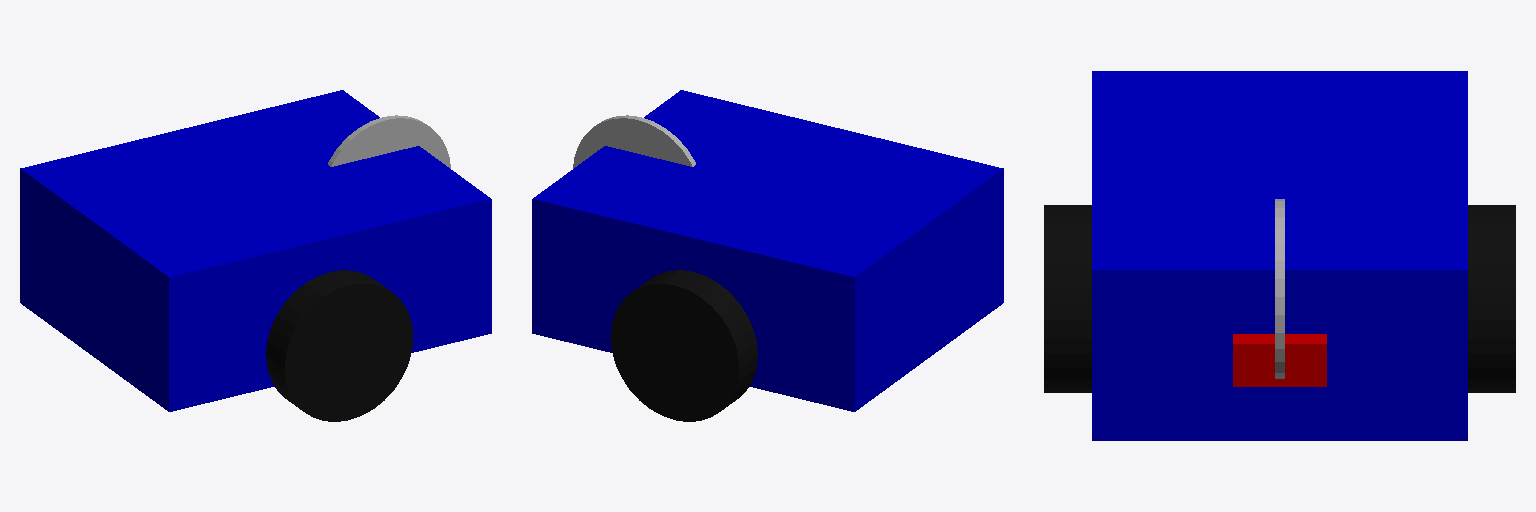
robot.urdf — battlebot_1:
<?xml version="1.0"?>
<robot name="battlebot_1">

  <!-- Material definitions -->
  <material name="blue">
    <color rgba="0 0 0.8 1"/>
  </material>
  <material name="red">
    <color rgba="0.8 0 0 1"/>
  </material>
  <material name="black">
    <color rgba="0.1 0.1 0.1 1"/>
  </material>
  <material name="grey">
    <color rgba="0.7 0.7 0.7 1"/>
  </material>

  <!-- Base link -->
  <link name="base_link">
    <inertial>
      <origin xyz="0 0 0.2" rpy="0 0 0"/>
      <mass value="15.0"/>
      <inertia ixx="1.0" ixy="0" ixz="0" iyy="1.0" iyz="0" izz="1.0"/>
    </inertial>
    <visual>
      <origin xyz="0 0 0.2" rpy="0 0 0"/>
      <geometry><box size="1.0 0.8 0.4"/></geometry>
      <material name="blue"/>
    </visual>
    <collision name="base_link_collision">
      <origin xyz="0 0 0.2" rpy="0 0 0"/>
      <geometry><box size="1.0 0.8 0.4"/></geometry>
    </collision>
  </link>

  <!-- Left wheel -->
  <link name="left_wheel">
    <inertial>
      <origin xyz="0 0 0" rpy="0 0 0"/>
      <mass value="1.5"/>
      <inertia ixx="0.1" ixy="0" ixz="0" iyy="0.1" iyz="0" izz="0.1"/>
    </inertial>
    <visual>
      <origin xyz="0 0 0" rpy="1.5708 0 0"/>
      <geometry><cylinder radius="0.2" length="0.1"/></geometry>
      <material name="black"/>
    </visual>
    <collision name="left_wheel_collision">
      <origin xyz="0 0 0" rpy="1.5708 0 0"/>
      <geometry><cylinder radius="0.2" length="0.1"/></geometry>
    </collision>
  </link>

  <!-- Right wheel -->
  <link name="right_wheel">
    <inertial>
      <origin xyz="0 0 0" rpy="0 0 0"/>
      <mass value="1.5"/>
      <inertia ixx="0.1" ixy="0" ixz="0" iyy="0.1" iyz="0" izz="0.1"/>
    </inertial>
    <visual>
      <origin xyz="0 0 0" rpy="1.5708 0 0"/>
      <geometry><cylinder radius="0.2" length="0.1"/></geometry>
      <material name="black"/>
    </visual>
    <collision name="right_wheel_collision">
      <origin xyz="0 0 0" rpy="1.5708 0 0"/>
      <geometry><cylinder radius="0.2" length="0.1"/></geometry>
    </collision>
  </link>

  <!-- Saw link -->
  <link name="saw_link">
    <inertial>
      <origin xyz="0 0 0" rpy="0 0 0"/>
      <mass value="0.6"/>
      <inertia ixx="0.01" ixy="0" ixz="0" iyy="0.01" iyz="0" izz="0.01"/>
    </inertial>
    <visual>
      <origin xyz="0 0 0" rpy="1.5708 0 0"/>
      <geometry><cylinder radius="0.2" length="0.02"/></geometry>
      <material name="grey"/>
    </visual>
    <collision name="battlebot_saw_collision">
      <origin xyz="0 0 0" rpy="1.5708 0 0"/>
      <geometry><cylinder radius="0.2" length="0.02"/></geometry>
    </collision>
  </link>

  <!-- Contact sensor link -->
  <link name="contact_sensor_link">
    <inertial>
      <origin xyz="0 0 0" rpy="0 0 0"/>
      <mass value="0.03"/>
      <inertia ixx="0.001" ixy="0" ixz="0" iyy="0.001" iyz="0" izz="0.001"/>
    </inertial>
    <visual>
      <geometry><box size="0.1 0.2 0.1"/></geometry>
      <material name="red"/>
    </visual>
    <collision name="battlebot_front_bumper_collision">
      <origin xyz="0 0 0" rpy="0 0 0"/>
      <geometry><box size="0.1 0.2 0.1"/></geometry>
    </collision>
  </link>

  <!-- Joint definitions -->
  <joint name="left_wheel_joint" type="continuous">
    <parent link="base_link"/>
    <child link="left_wheel"/>
    <origin xyz="0 0.45 0.1" rpy="0 0 0"/>
    <axis xyz="0 1 0"/>
  </joint>
  <joint name="right_wheel_joint" type="continuous">
    <parent link="base_link"/>
    <child link="right_wheel"/>
    <origin xyz="0 -0.45 0.1" rpy="0 0 0"/>
    <axis xyz="0 1 0"/>
  </joint>
  <joint name="saw_joint" type="fixed">
    <parent link="base_link"/>
    <child link="saw_link"/>
    <origin xyz="0.4 0 0.3" rpy="0 0 0"/>
  </joint>
  <joint name="contact_sensor_joint" type="fixed">
    <parent link="base_link"/>
    <child link="contact_sensor_link"/>
    <origin xyz="0.5 0 0.2" rpy="0 0 0"/>
  </joint>

  <!-- Gazebo plugins -->
  <gazebo>
    <plugin name="diff_drive" filename="libgazebo_ros_diff_drive.so">
      <ros>
        <namespace>/battlebot_1</namespace>
      </ros>
      <left_joint>left_wheel_joint</left_joint>
      <right_joint>right_wheel_joint</right_joint>
      <wheel_separation>0.9</wheel_separation>
      <wheel_diameter>0.4</wheel_diameter>
      <command_topic>cmd_vel</command_topic>
      <odometry_topic>odom</odometry_topic>
      <odometry_frame>odom</odometry_frame>
      <robot_base_frame>base_link</robot_base_frame>
      <max_linear_speed>1.0</max_linear_speed>
      <max_angular_speed>2.0</max_angular_speed>
      <publish_odom>true</publish_odom>
      <publish_odom_tf>true</publish_odom_tf>
    </plugin>
  </gazebo>

  <gazebo reference="contact_sensor_link">
    <sensor name="main_contact_sensor" type="contact">
      <always_on>true</always_on>
      <update_rate>100</update_rate>
      <contact>
        <collision>battlebot_front_bumper_collision</collision>
      </contact>
      <plugin name="gazebo_ros_bumper_main" filename="libgazebo_ros_bumper.so">
        <ros>
          <namespace>/battlebot_1</namespace>
          <remapping>bumper_states:=contact</remapping>
        </ros>
        <frame_name>contact_sensor_link</frame_name>
      </plugin>
    </sensor>
  </gazebo>

  <gazebo reference="saw_link">
    <sensor name="saw_contact_sensor" type="contact">
      <always_on>true</always_on>
      <update_rate>100</update_rate>
      <contact>
        <collision>battlebot_saw_collision</collision>
      </contact>
      <plugin name="gazebo_ros_bumper_saw_plugin" filename="libgazebo_ros_bumper.so">
        <ros>
          <namespace>/battlebot_1</namespace>
          <remapping>bumper_states:=saw_contact</remapping>
        </ros>
        <frame_name>saw_link</frame_name>
      </plugin>
    </sensor>
  </gazebo>

  <!-- Material and physics -->
  <gazebo reference="base_link">
    <material>Gazebo/Blue</material>
    <mu1>1.0</mu1>
    <mu2>1.0</mu2>
  </gazebo>
  <gazebo reference="left_wheel">
    <material>Gazebo/Black</material>
    <mu1>1.0</mu1>
    <mu2>1.0</mu2>
  </gazebo>
  <gazebo reference="right_wheel">
    <material>Gazebo/Black</material>
    <mu1>1.0</mu1>
    <mu2>1.0</mu2>
  </gazebo>
  <gazebo reference="saw_link">
    <material>Gazebo/Grey</material>
    <mu1>1.0</mu1>
    <mu2>1.0</mu2>
  </gazebo>
  <gazebo reference="contact_sensor_link">
    <material>Gazebo/Red</material>
    <mu1>1.0</mu1>
    <mu2>1.0</mu2>
  </gazebo>

</robot>

--- Render facts (derived) ---
Views: 3 orthographic renders of the robot side by side, from view 1: azimuth 30°, elevation 25°; view 2: azimuth 150°, elevation 25°; view 3: azimuth 270°, elevation 25°.
Model battlebot_1 with 5 links and 4 joints (2 continuous, 2 fixed), rooted at base_link, posed every joint at zero.
Visible links, largest first — view 1: base_link, right_wheel, saw_link; view 2: base_link, left_wheel, saw_link; view 3: base_link, left_wheel, right_wheel, contact_sensor_link, saw_link.
Boxes of the visible links, x1,y1,x2,y2 form: base_link: (20,90,491,411); right_wheel: (266,270,412,421); saw_link: (328,115,450,168); base_link: (532,90,1003,411); left_wheel: (611,270,757,421); saw_link: (573,115,695,168); base_link: (1092,71,1467,440); left_wheel: (1468,205,1515,392); right_wheel: (1044,205,1091,392); contact_sensor_link: (1233,334,1326,386); saw_link: (1275,199,1284,378).
Bounding box of the posed robot: 1.1 × 1 × 0.6 m (x, y, z).
Geometry: primitives only (box / cylinder / sphere), no mesh files.
